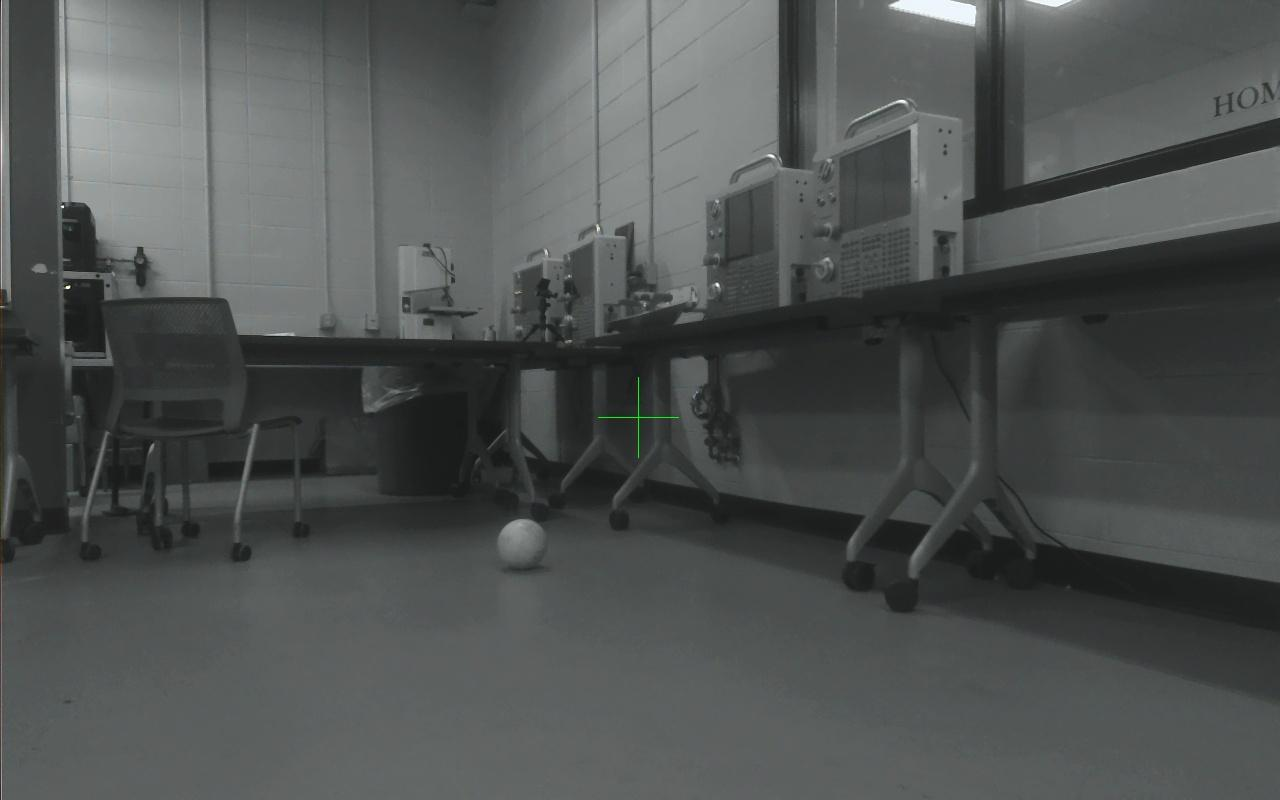Fuel: (497, 518, 548, 570)
